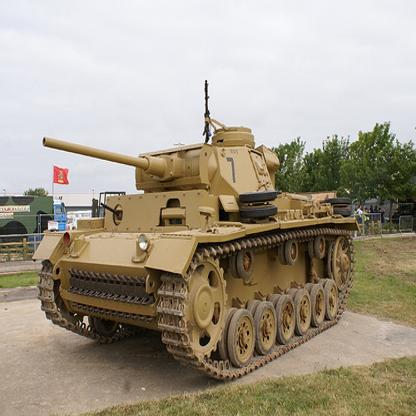Tank: (25, 111, 365, 371)
